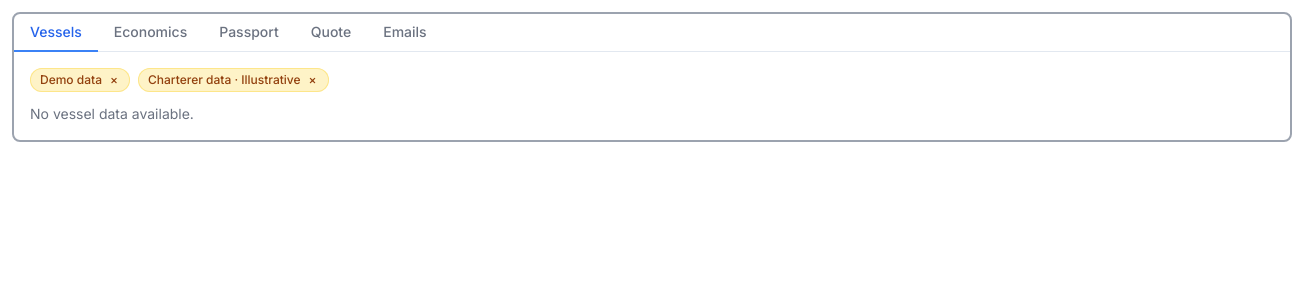
Test: MatchTabs › tab navigation › switches to Quote tab on click
Click the tab "Quote".
click(331, 33)  # box left=295, top=14, right=367, bottom=52
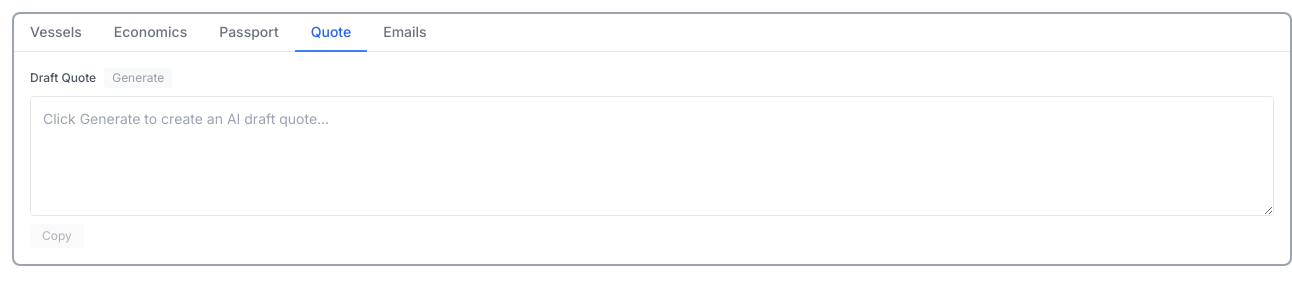
Now the element with test id "tab-quote" is shown
